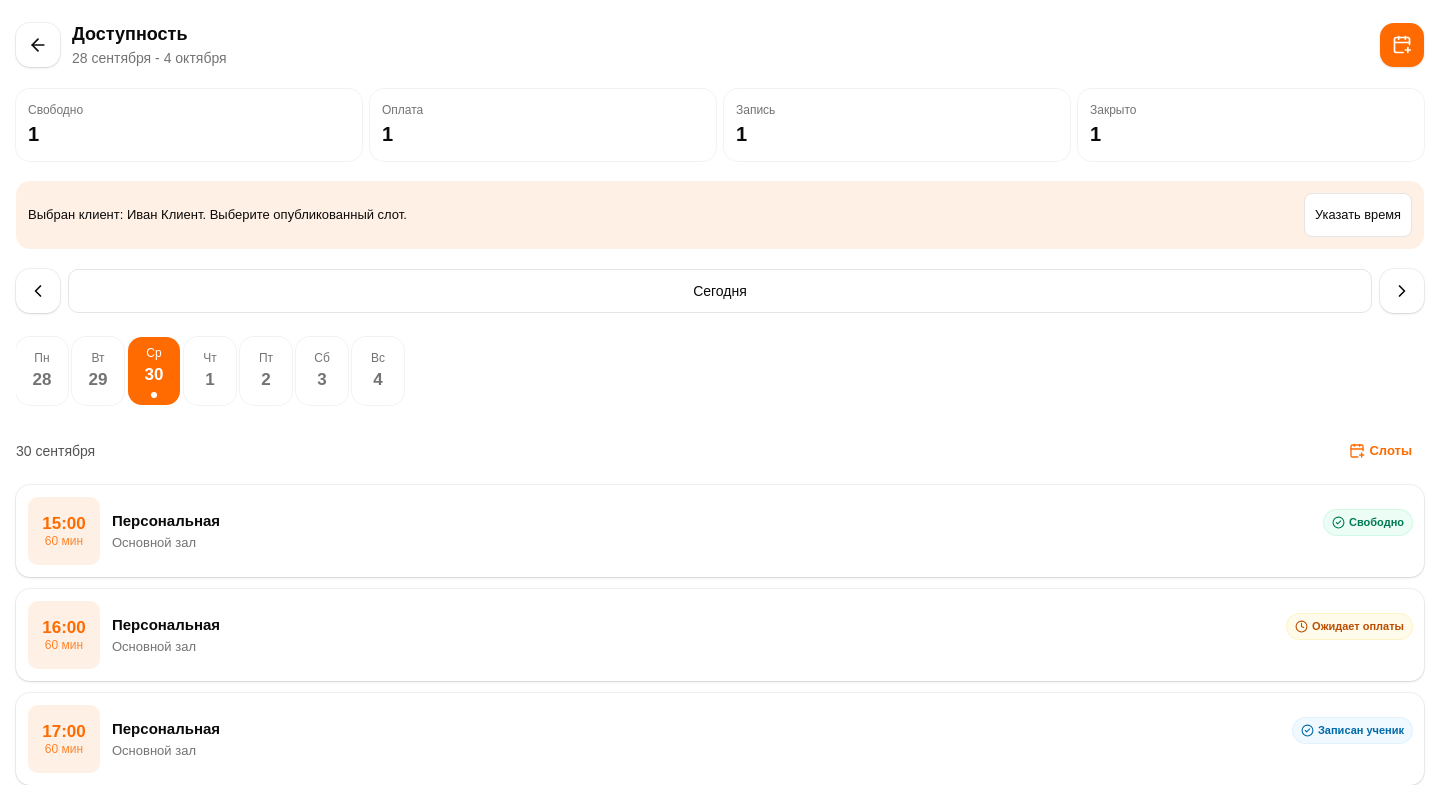
Scenario: AvailabilityCalendar › keeps direct-time personal booking reachable for the safely preselected client
This screenshot has width=1440, height=785.
Expected: the text "Выбран клиент: Иван Клиент. Выберите опубликованный слот." is shown, [28,205,407,225]
What coordinates should you click on to do the following:
click the button "Указать время"
I would click on:
 (1358, 215)
Its box is [1304,193,1412,237].
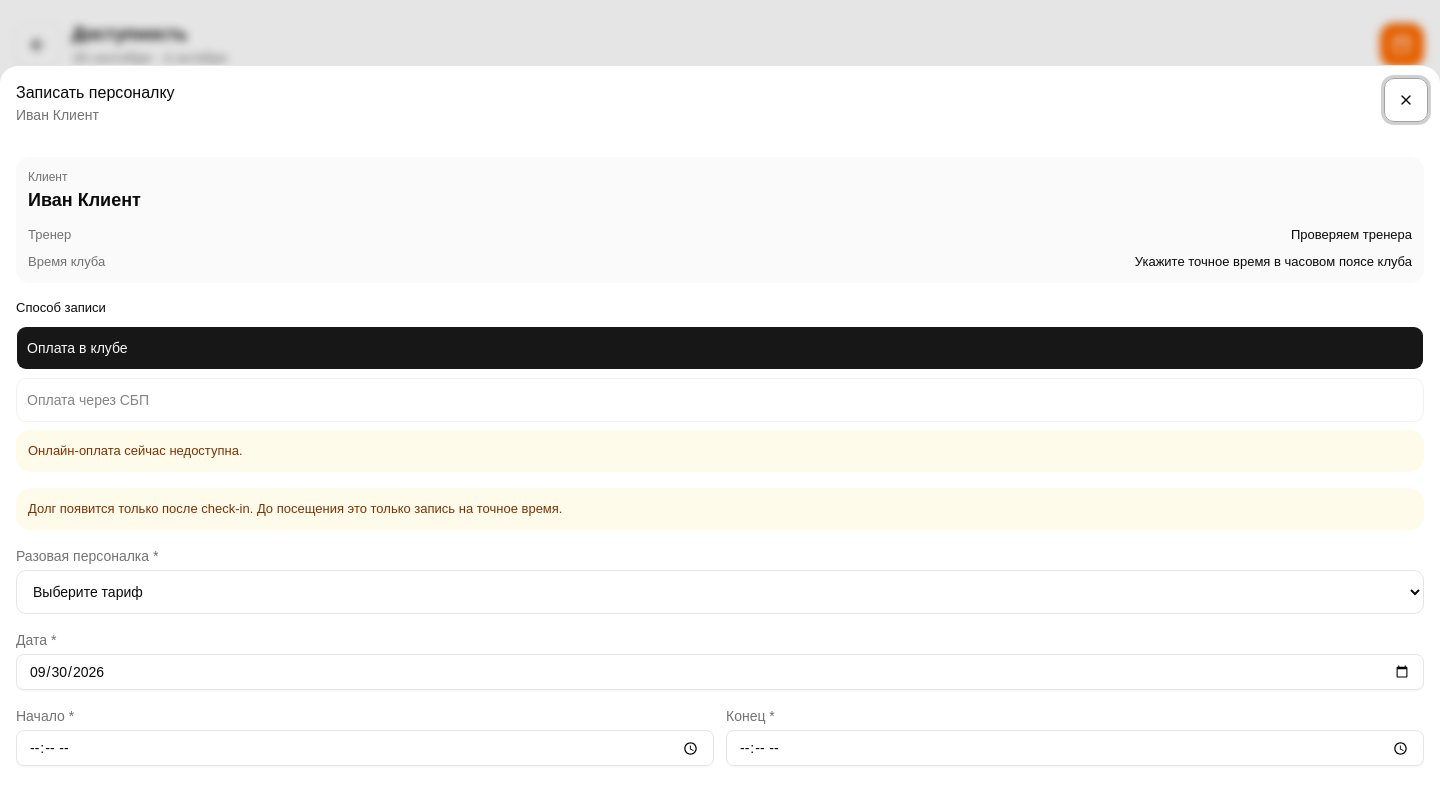
Now the heading "Записать персоналку" is shown, box [16,84,175,101]
Now the dialog shows "Иван Клиент", box [16,107,99,123]
